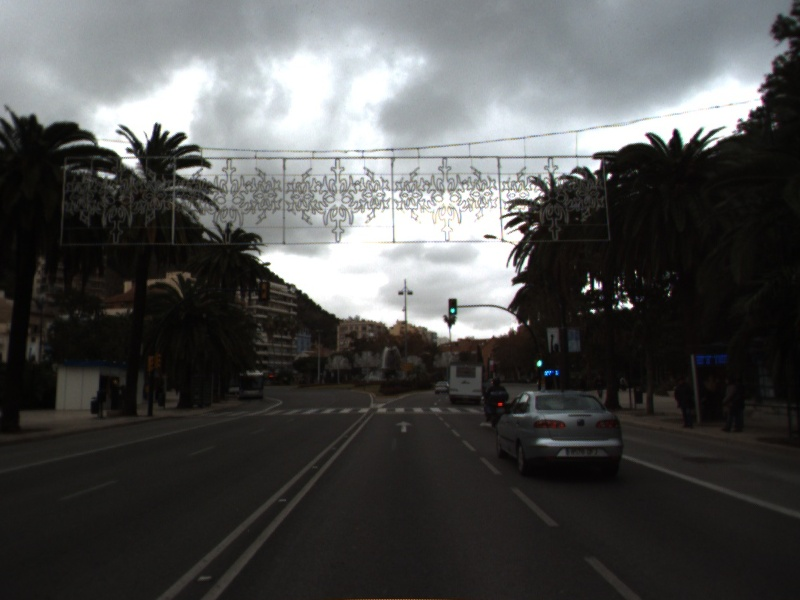STRAIGHT: (393, 419, 415, 434)
